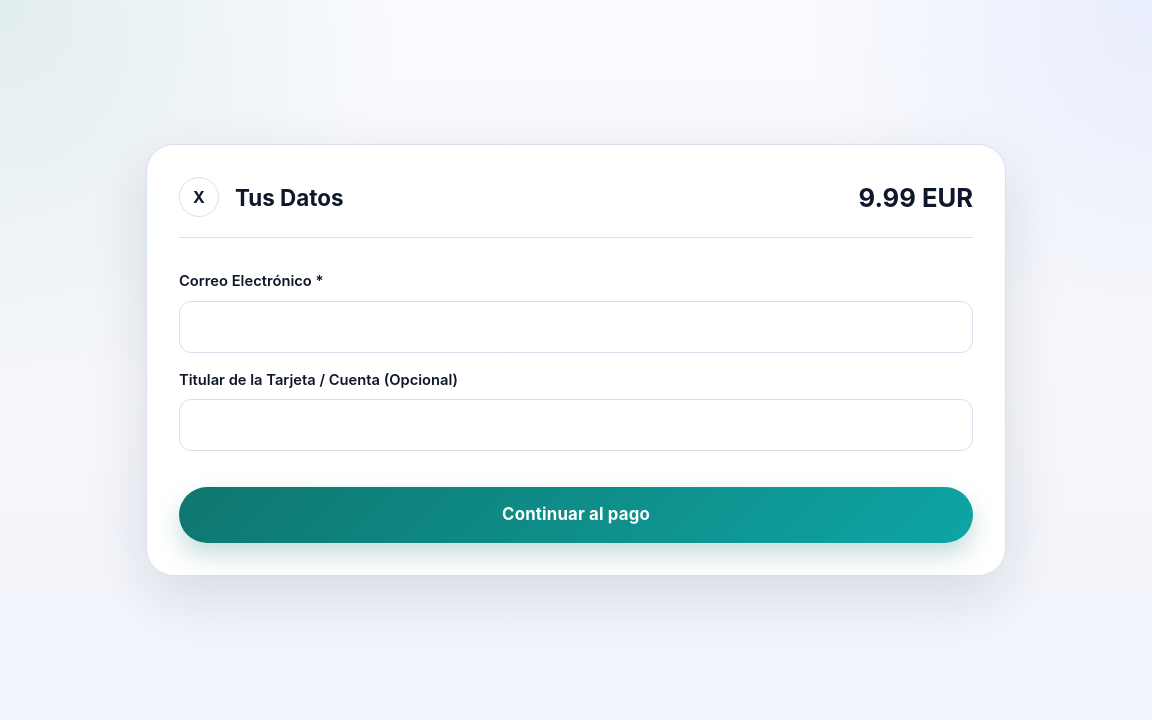
Test case: SubscriptionForm › moves to payment step with a valid email
Step 1. Type "user@example.com" into the field labelled "Correo Electrónico *" → (576, 326), box [179,300,973,352]
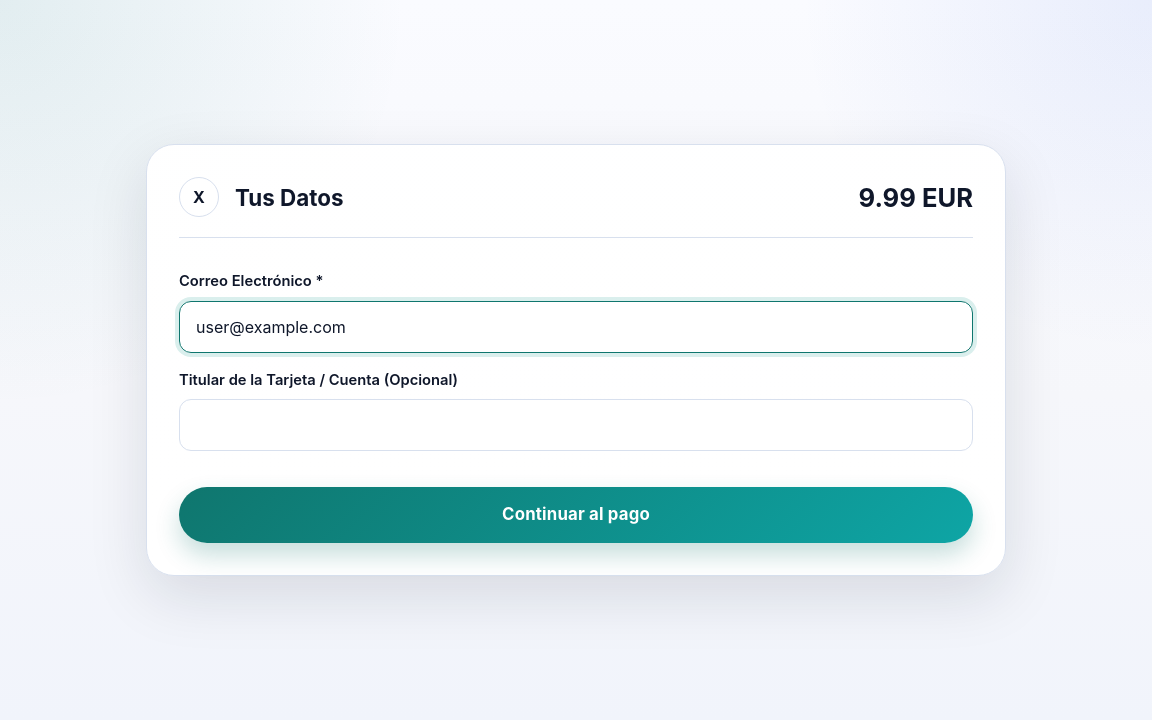
Step 2. Click the button "Continuar al pago" → (576, 515), box [179,487,973,543]
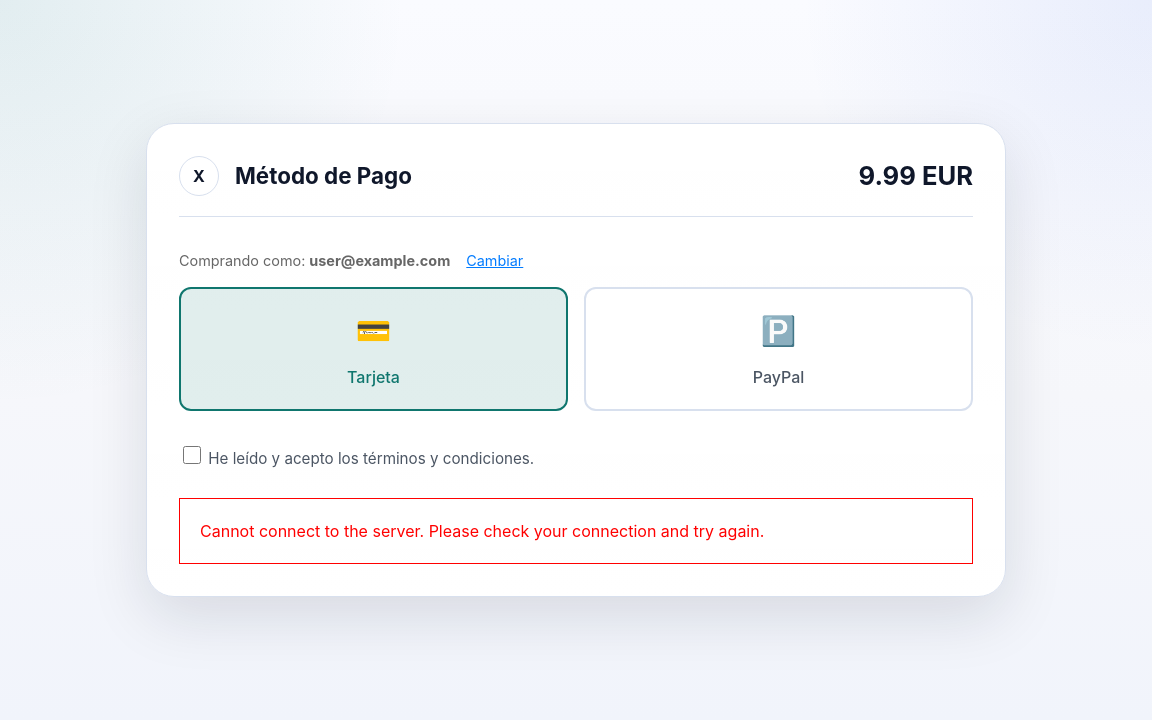
Expected: the heading "Método de Pago" is shown, [235,159,412,192]
Expected: the text "Comprando como: user@example.com Cambiar" is shown, [179,249,529,272]
